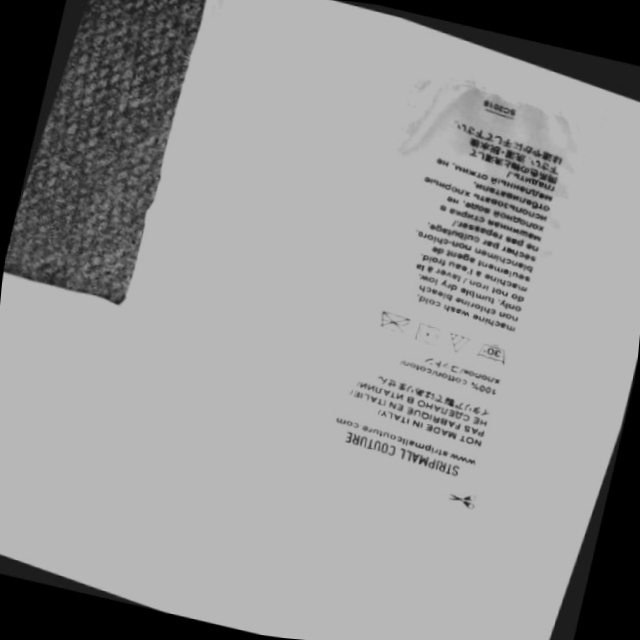30C: (474, 338, 514, 366)
DN_iron: (371, 306, 412, 340)
non_chlorine_bleach: (444, 329, 474, 356)
tumble_dry_low: (411, 320, 448, 348)
